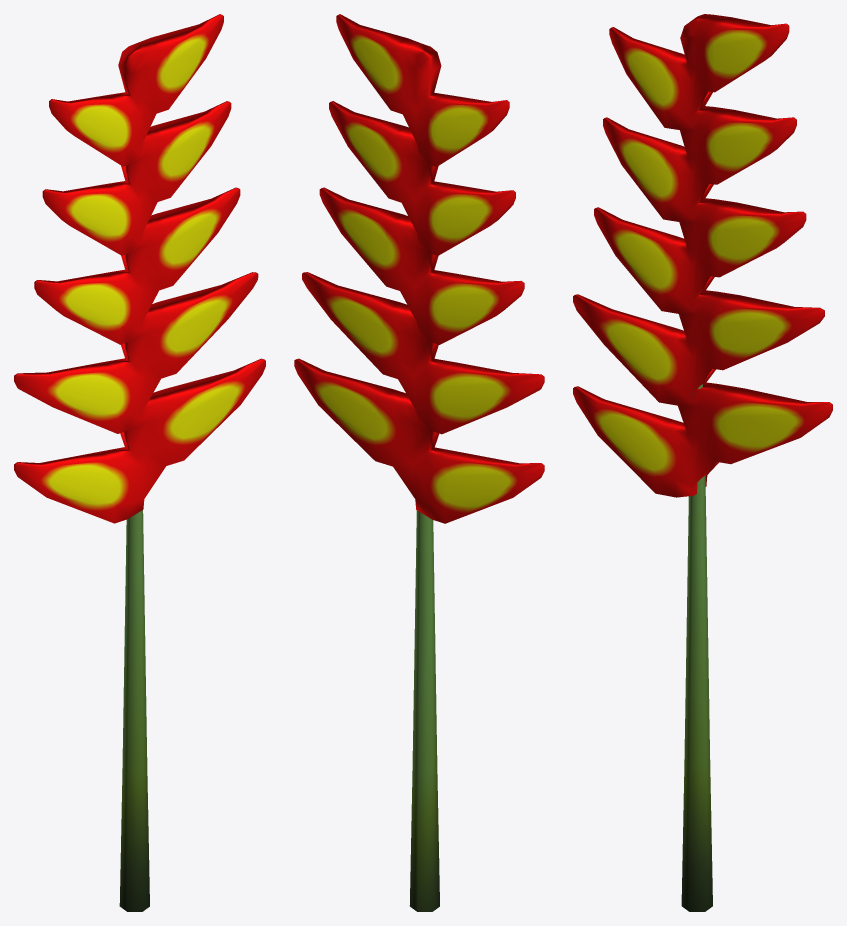
File: Heliconia spp.fbx
3 views of the same model, side by side, from view 1: azimuth 30°, elevation 25°; view 2: azimuth 150°, elevation 25°; view 3: azimuth 330°, elevation 25° (orthographic). The views are drawn at different scales.
Visible parts, largest first — view 1: base stem.002; view 2: base stem.002; view 3: base stem.002.
Boxes of the visible parts, x1,y1,x2,y2 form: base stem.002: (14, 14, 265, 911); base stem.002: (294, 14, 544, 911); base stem.002: (573, 14, 832, 911).
Bounding box in the file's own units: 512 × 1708 × 71.8.
